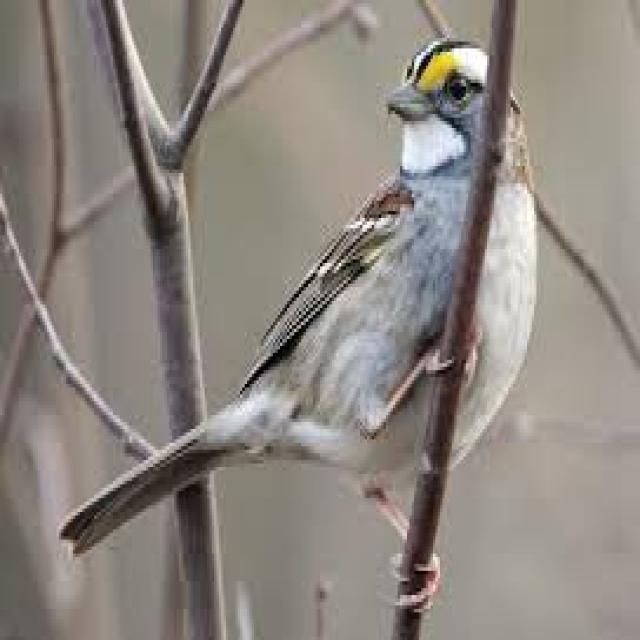Sparrow: (55, 28, 542, 568)
